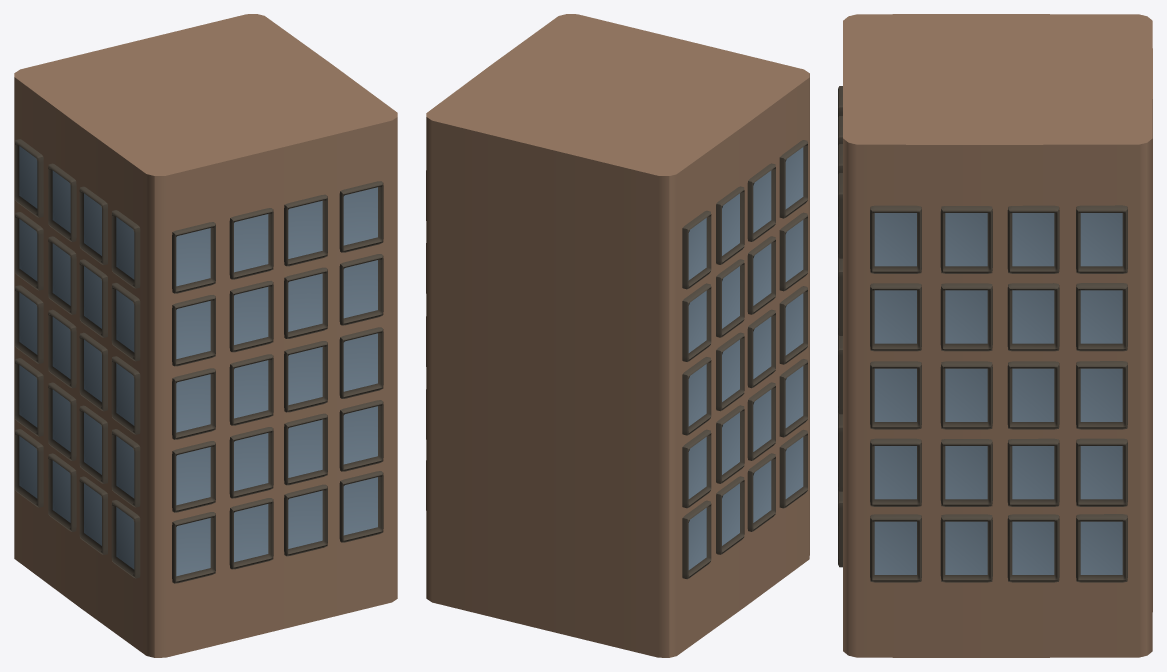
Rendered from tallBuilding.fbx.
3 renders of one model, left to right at view 1: azimuth 30°, elevation 25°; view 2: azimuth 150°, elevation 25°; view 3: azimuth 270°, elevation 25°, orthographic. The views are drawn at different scales.
Parts seen in each view (by area): view 1: polySurface79; view 2: polySurface79; view 3: polySurface79.
Part boxes in pixels (x1,y1,x2,y2): polySurface79: (14, 14, 397, 657); polySurface79: (426, 14, 809, 657); polySurface79: (838, 14, 1152, 657).
Size of the model in its own units: 12.54 by 22 by 12.23.
